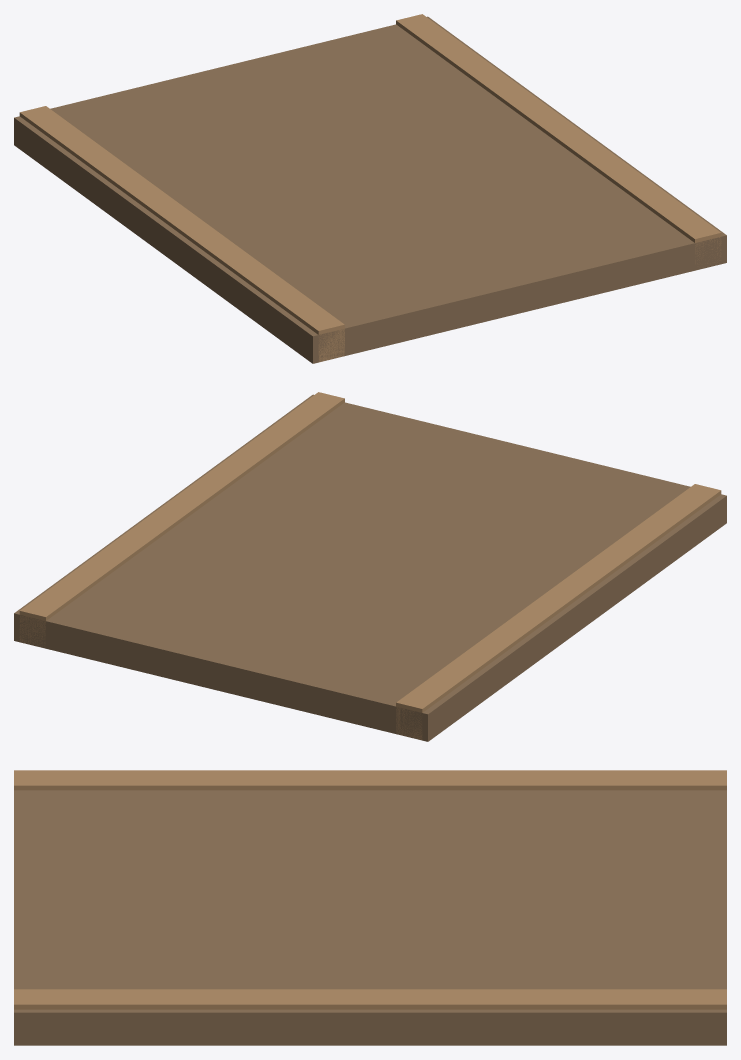
File: mod_door_wood.glb
3 views of the same model, one above another, from view 1: azimuth 30°, elevation 25°; view 2: azimuth 150°, elevation 25°; view 3: azimuth 270°, elevation 25° (orthographic). The views are drawn at different scales.
Visible parts, largest first — view 1: door, brace_l, brace_r; view 2: door, brace_r, brace_l; view 3: door, brace_l, brace_r.
Part boxes in pixels (x1,y1,x2,y2): door: (14,16,726,363); brace_l: (19,106,344,362); brace_r: (396,14,721,267); door: (14,394,726,741); brace_r: (19,392,344,648); brace_l: (396,484,721,739); door: (14,790,726,1045); brace_l: (14,770,726,790); brace_r: (14,989,726,1009).
Bounding box in the file's own units: 2.2 × 0.22 × 2.75.
